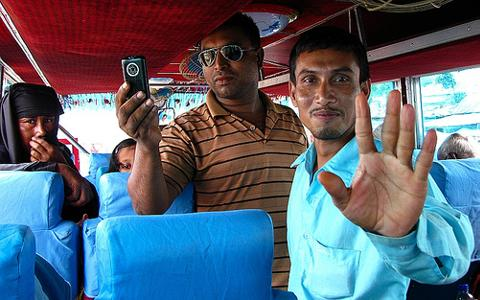person: (116, 11, 314, 294)
